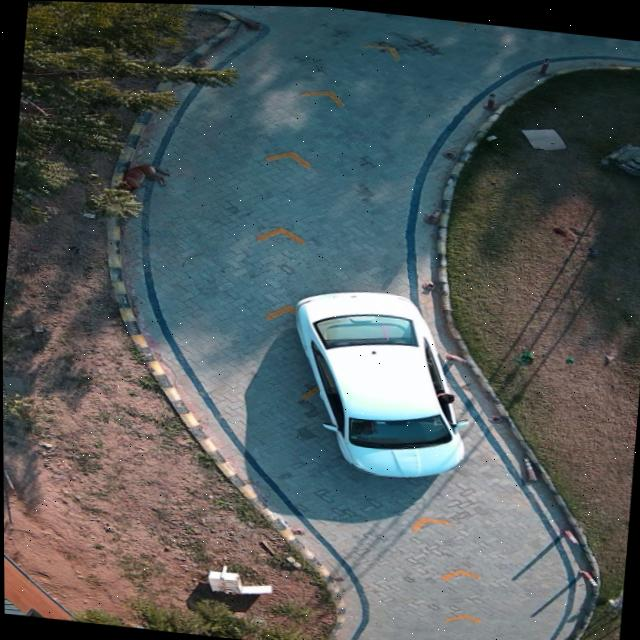car: (295, 289, 462, 475)
